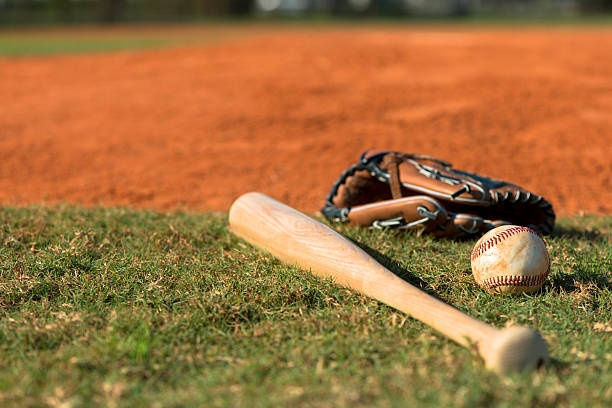bita: (228, 195, 542, 364)
